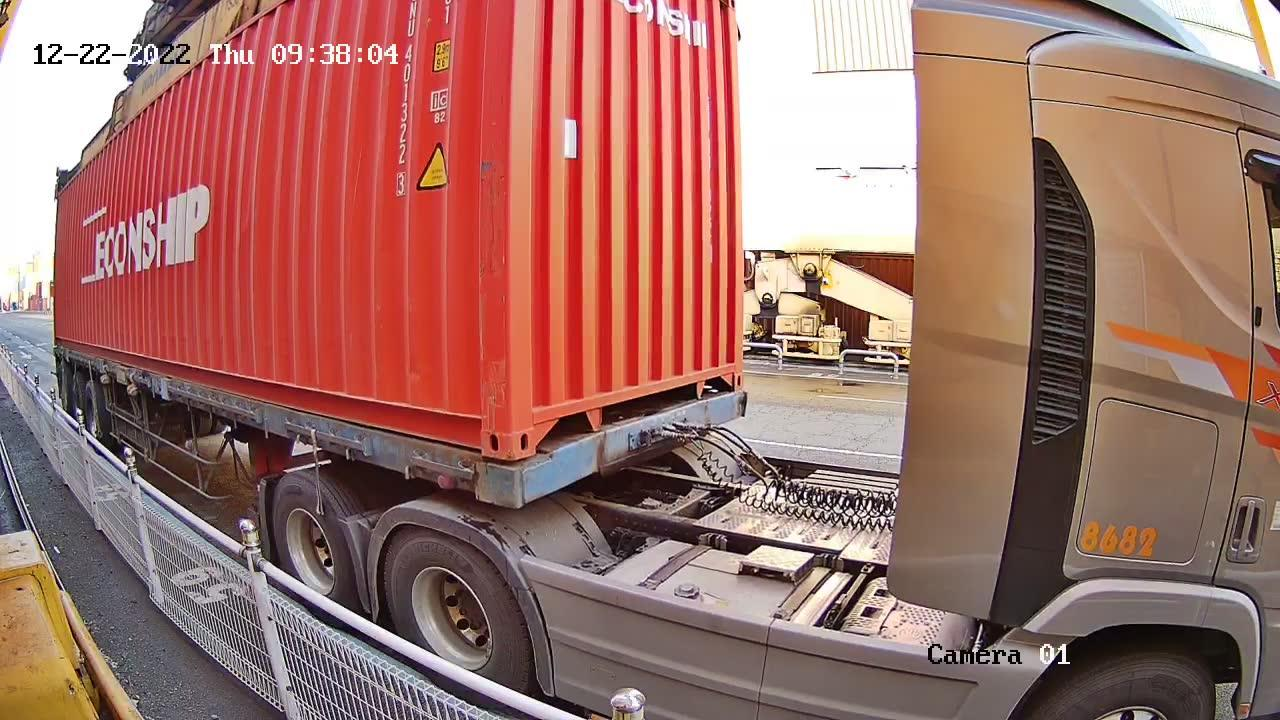Chassis: (476, 391, 745, 510)
Cone: (475, 458, 514, 512)
Hole_L: (510, 389, 561, 460)
Hole_R: (449, 388, 512, 462), (711, 350, 744, 395)
Tire: (384, 530, 526, 708), (269, 475, 353, 623)
